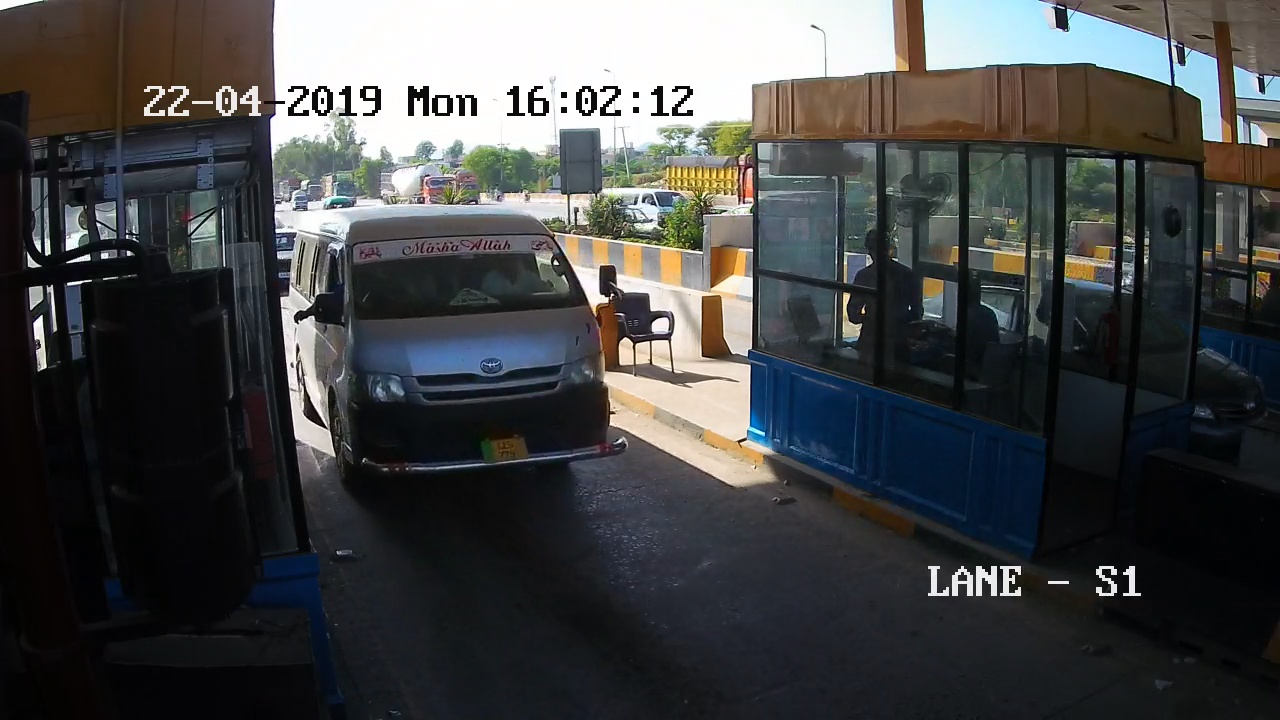car: (286, 211, 645, 502)
